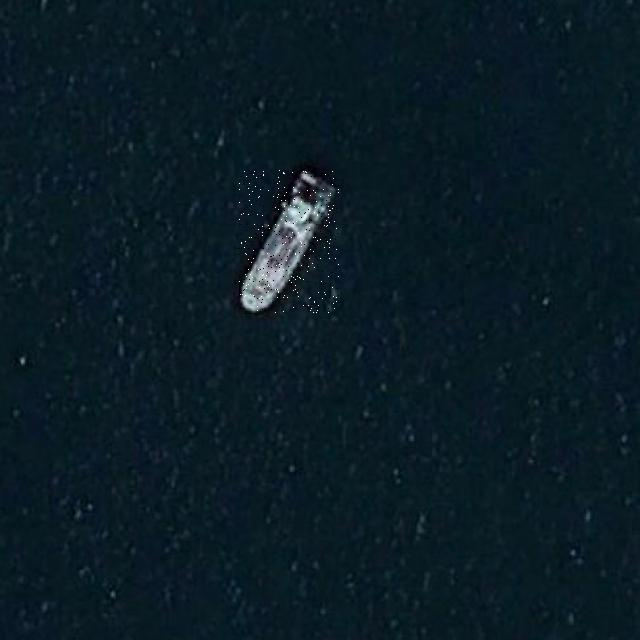boat: (240, 170, 340, 314)
